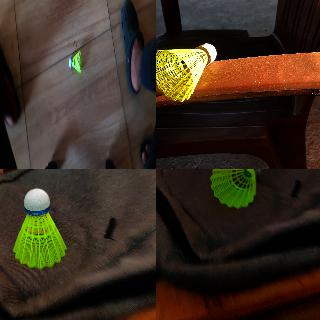shuttlecock: (12, 189, 66, 267), (156, 43, 216, 102), (211, 169, 262, 208), (68, 52, 82, 74)
